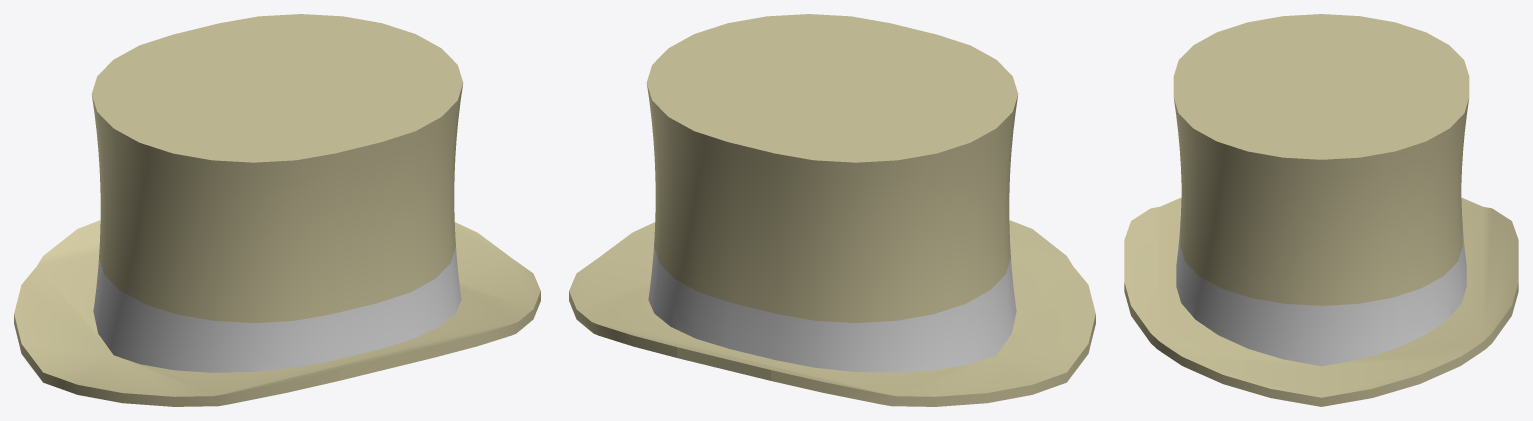
The model's file is MyTanTopHat.fbx.
3 views of the same model, side by side, from view 1: azimuth 30°, elevation 25°; view 2: azimuth 150°, elevation 25°; view 3: azimuth 270°, elevation 25° (orthographic). The views are drawn at different scales.
Visible parts, largest first — view 1: SketchUp, SketchUp.004, SketchUp.011; view 2: SketchUp, SketchUp.004, SketchUp.011; view 3: SketchUp, SketchUp.004, SketchUp.011.
Part boxes in pixels (<box>): SketchUp: <box>91,14,463,322</box>; SketchUp.004: <box>14,220,540,406</box>; SketchUp.011: <box>93,247,461,372</box>; SketchUp: <box>646,14,1018,322</box>; SketchUp.004: <box>569,220,1095,406</box>; SketchUp.011: <box>648,247,1016,372</box>; SketchUp: <box>1173,14,1469,305</box>; SketchUp.004: <box>1124,197,1518,406</box>; SketchUp.011: <box>1176,226,1466,366</box>.
Bounding box in the file's own units: 30 × 14.5 × 24.
